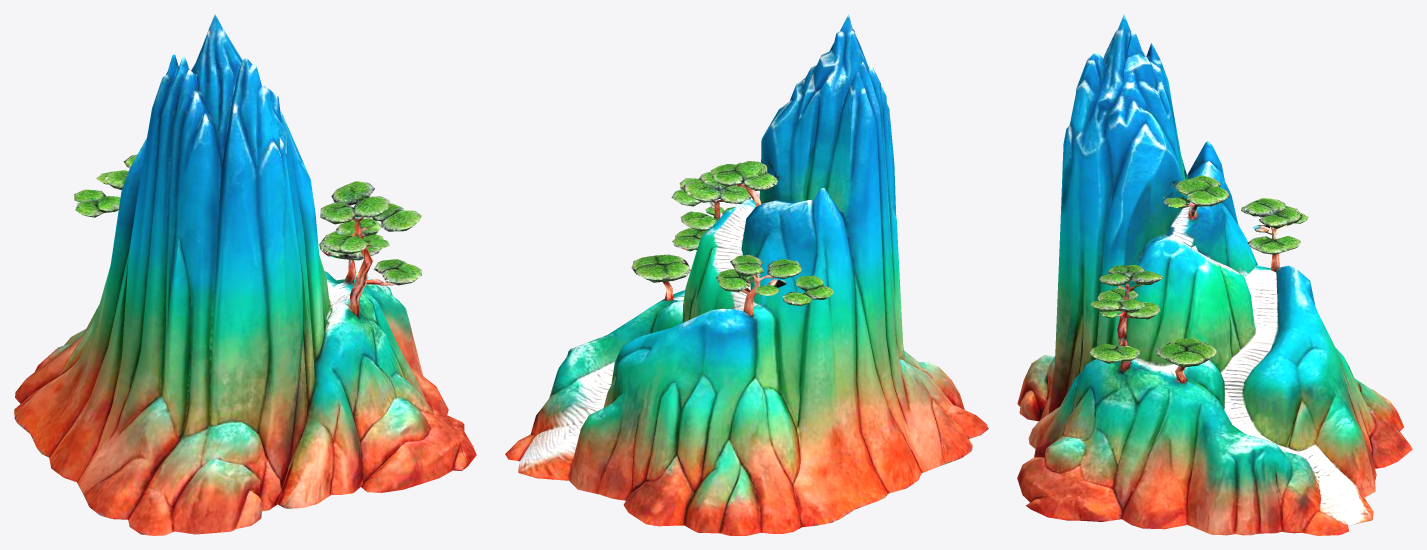
The model's file is ql_mount1_lo.glb.
The picture shows the model from 3 angles, left to right: view 1: azimuth 30°, elevation 25°; view 2: azimuth 150°, elevation 25°; view 3: azimuth 270°, elevation 25°; orthographic projection. The views are drawn at different scales.
Visible parts, largest first — view 1: ql_mount1; view 2: ql_mount1; view 3: ql_mount1.
Part boxes in pixels (x1,y1,x2,y2): ql_mount1: (14, 14, 476, 535); ql_mount1: (505, 14, 988, 535); ql_mount1: (1017, 14, 1412, 535).
Size of the model in its own units: 35.1 by 40.07 by 35.07.
1 material, 1 textured.
